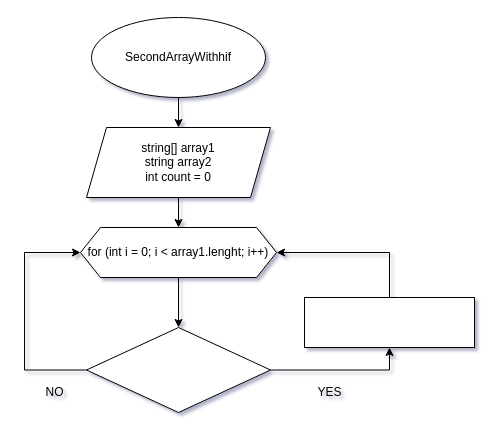
Image size: 498x436. Some labels were removed from this diagram. Here are the shapes that lost their labels. From the top down, the centre of each, then its label:
point 389,322: array2[count] = array1[i] count++
point 178,369: if(array1[i].lenght <= 3)
